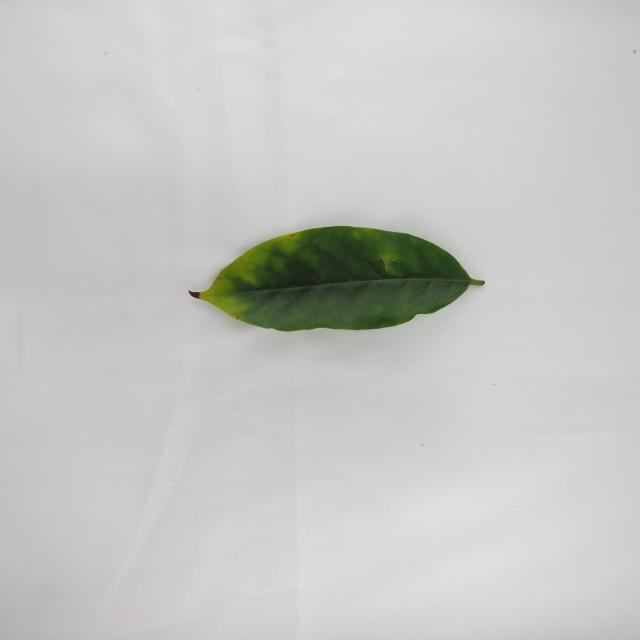DeficienciaNutricional-Potasio: (190, 226, 483, 331)
